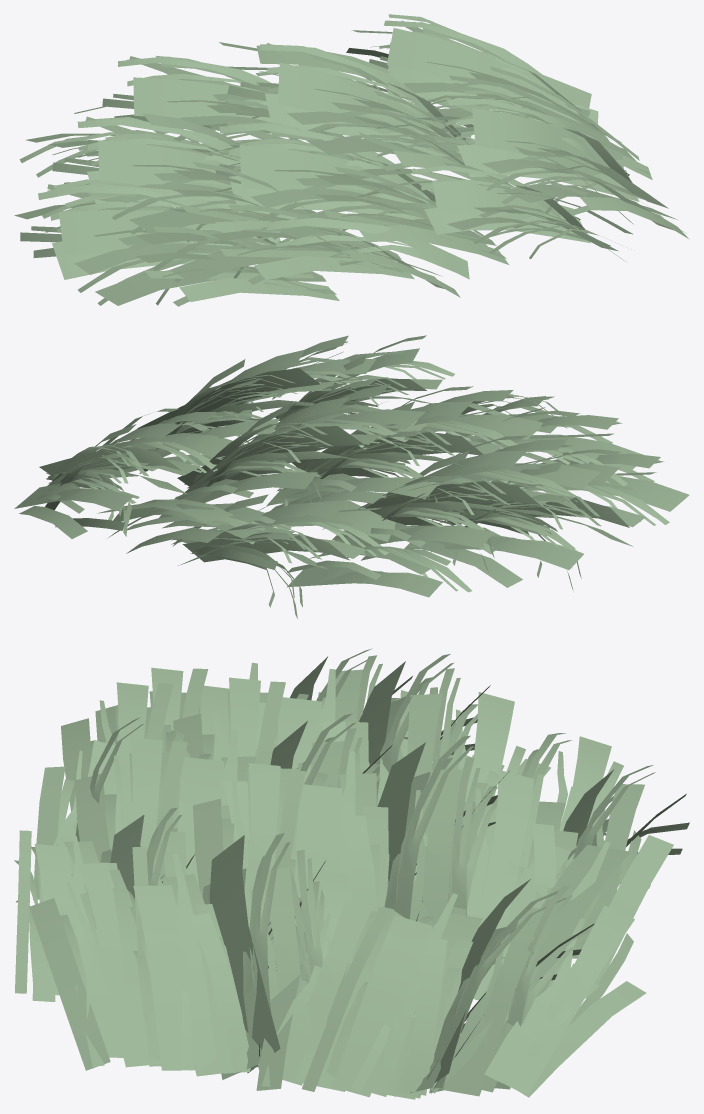
Rendered from SM_ocean_eelGrass_06.fbx.
The picture shows the model from 3 angles, top to bottom: view 1: azimuth 30°, elevation 25°; view 2: azimuth 150°, elevation 25°; view 3: azimuth 270°, elevation 25°; orthographic projection. The views are drawn at different scales.
Visible parts, largest first — view 1: SM_ocean_eelGrass_06_LOD0; view 2: SM_ocean_eelGrass_06_LOD0; view 3: SM_ocean_eelGrass_06_LOD0.
Boxes of the visible parts, x1,y1,x2,y2 form: SM_ocean_eelGrass_06_LOD0: (14,14,689,306); SM_ocean_eelGrass_06_LOD0: (14,335,689,618); SM_ocean_eelGrass_06_LOD0: (14,648,689,1099).
Size of what is drawn, in the model's own units: 564 by 451 by 134.
